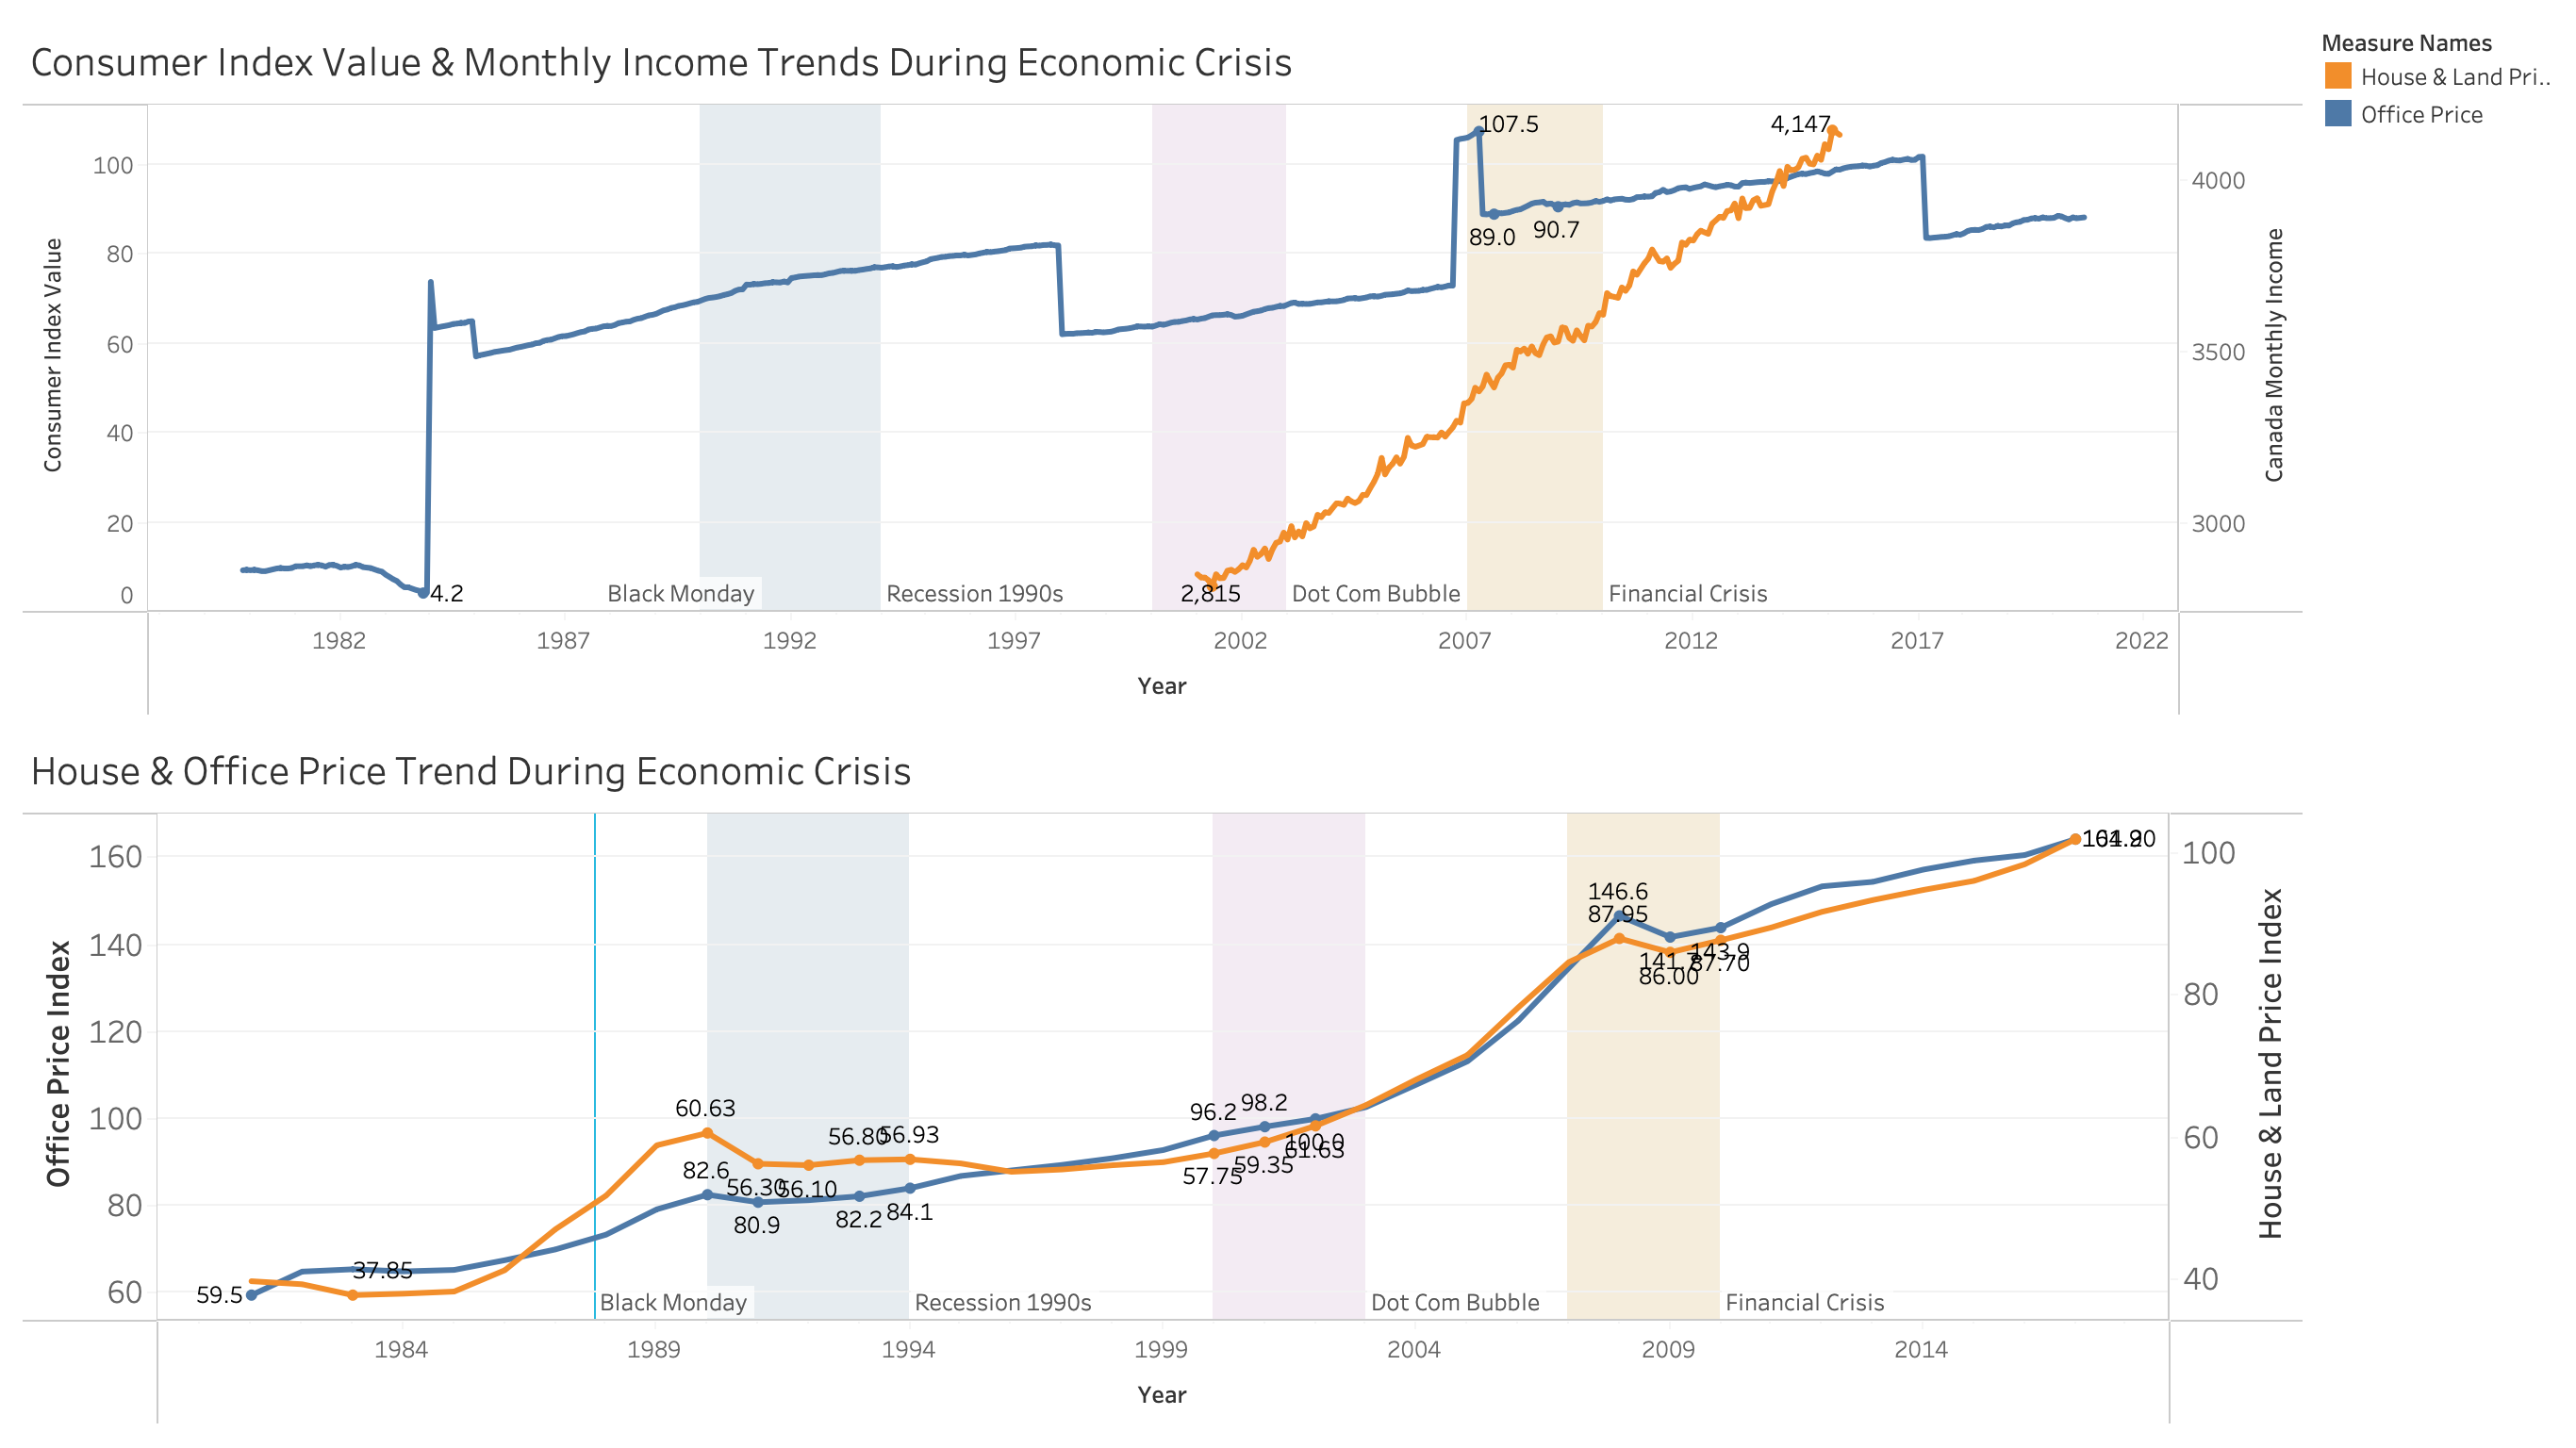

This screenshot's page, from the dashboard's own definition file:
{"tool":"tableau","page":{"name":"Economic Crisis","canvas":[1366,768],"ordinal":1},"visuals":[{"type":"worksheet","title":"ConsumerIndex_MonthlyIncome_Economic Crisis","mark":"Automatic","rows":["index_value","Calculation_147633669673476098"],"cols":["date"],"box":[8,8,1218,376]},{"type":"legend","title":"House&Office_PriceIndex_EconomicCrisis","param":"[federated.1m74g8e0oe8koo1gu36jr1rtzs33].[:Measure Names]","box":[1226,8,132,92]},{"type":"worksheet","title":"House&Office_PriceIndex_EconomicCrisis","mark":"Automatic","rows":["index_value","Total (house and land)"],"cols":["date"],"box":[8,384,1218,376]}]}

Visuals, with their boxes in screenshot pixels (x1, y1, x2, y2), scaled from the page's 1366x768 canvas onto the 2576x1448 screenshot:
"ConsumerIndex_MonthlyIncome_Economic Crisis" worksheet: x1=15, y1=15, x2=2312, y2=724
"House&Office_PriceIndex_EconomicCrisis" legend: x1=2312, y1=15, x2=2561, y2=189
"House&Office_PriceIndex_EconomicCrisis" worksheet: x1=15, y1=724, x2=2312, y2=1433
